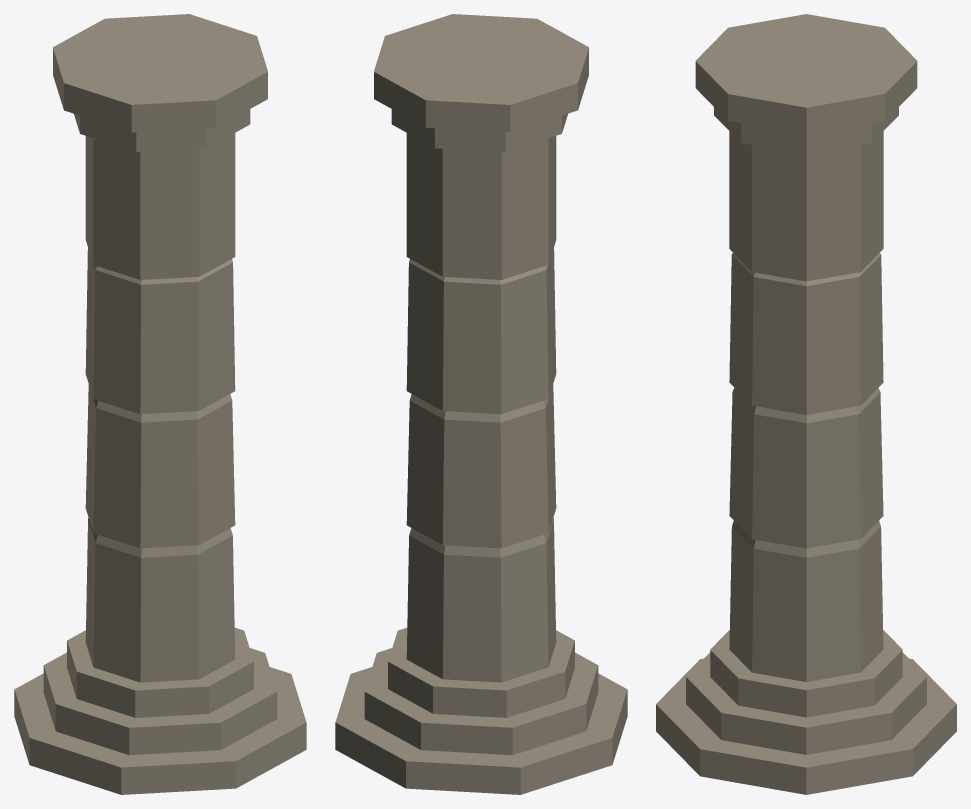
Rendered from Column.glb.
3 renders of one model, left to right at view 1: azimuth 30°, elevation 25°; view 2: azimuth 150°, elevation 25°; view 3: azimuth 270°, elevation 25°, orthographic.
Visible parts, largest first — view 1: Column; view 2: Column; view 3: Column.
Boxes of the visible parts, left/top/right/bottom form: Column: left=14, top=14, right=306, bottom=794; Column: left=335, top=14, right=627, bottom=794; Column: left=656, top=14, right=956, bottom=794.
Bounding box in the file's own units: 0.4067 × 1 × 0.4067.
